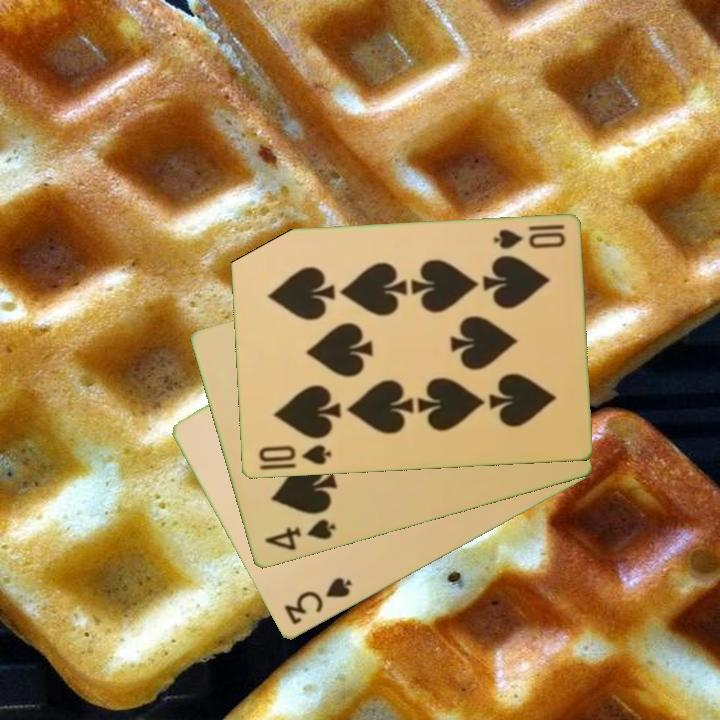10s: (489, 221, 568, 252), (255, 441, 334, 469)
3s: (280, 574, 355, 628)
4s: (260, 516, 339, 554)
